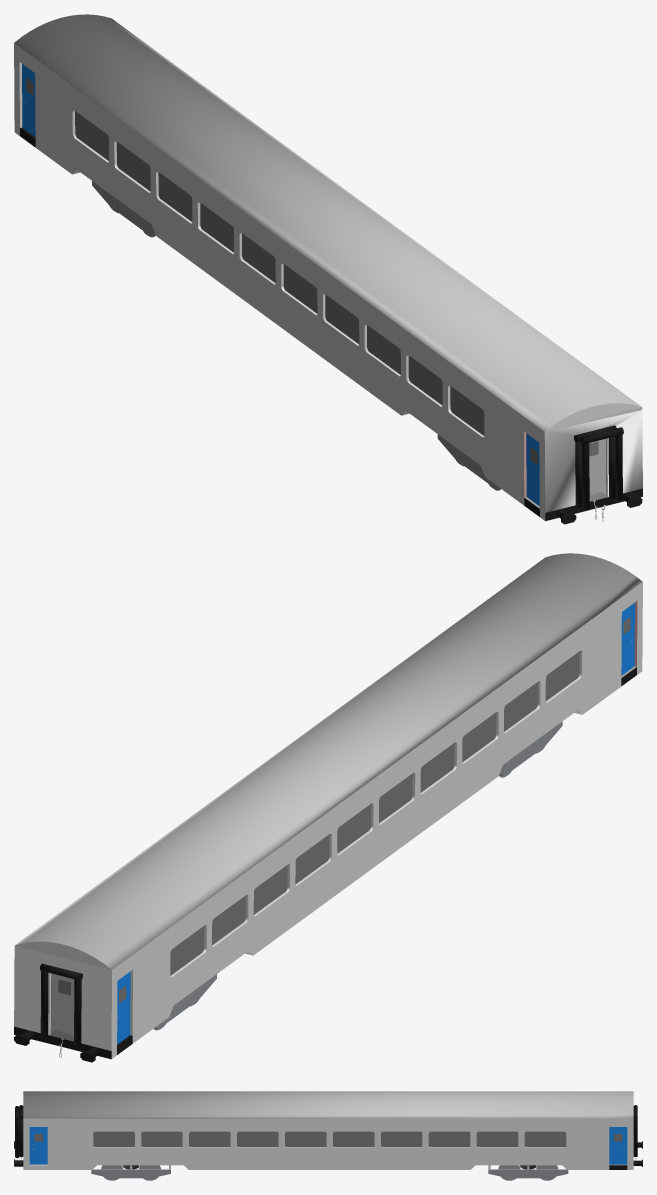
File: Amtrak17_car2.gltf
3 views of the same model, one above another, from view 1: azimuth 30°, elevation 25°; view 2: azimuth 150°, elevation 25°; view 3: azimuth 270°, elevation 25° (orthographic). The views are drawn at different scales.
Parts seen in each view (by area): view 1: Passenger Car 1.002, soufflet.001, porte.009, porte.010, bogie#1.005; view 2: Passenger Car 1.002, soufflet.002, porte.010, porte.009, bogie#1.004; view 3: Passenger Car 1.002, bogie#1.005, bogie#1.004, porte.008, porte.011, soufflet.001, soufflet.002.
Boxes of the visible parts, x1=… form: Passenger Car 1.002: x1=14, y1=14, x2=642, y2=520; soufflet.001: x1=580, y1=427, x2=623, y2=509; porte.009: x1=526, y1=433, x2=539, y2=505; porte.010: x1=22, y1=64, x2=35, y2=136; bogie#1.005: x1=92, y1=181, x2=155, y2=234; Passenger Car 1.002: x1=14, y1=553, x2=642, y2=1062; soufflet.002: x1=40, y1=963, x2=82, y2=1045; porte.010: x1=117, y1=971, x2=130, y2=1044; porte.009: x1=621, y1=603, x2=634, y2=675; bogie#1.004: x1=499, y1=721, x2=562, y2=774; Passenger Car 1.002: x1=19, y1=1091, x2=642, y2=1169; bogie#1.005: x1=488, y1=1165, x2=568, y2=1178; bogie#1.004: x1=91, y1=1165, x2=170, y2=1178; porte.008: x1=29, y1=1127, x2=47, y2=1164; porte.011: x1=609, y1=1127, x2=627, y2=1164; soufflet.001: x1=15, y1=1106, x2=19, y2=1157; soufflet.002: x1=633, y1=1105, x2=637, y2=1156.
Bounding box in the file's own units: 3.11 × 4.05 × 29.92.
25 materials, 4 textured.
